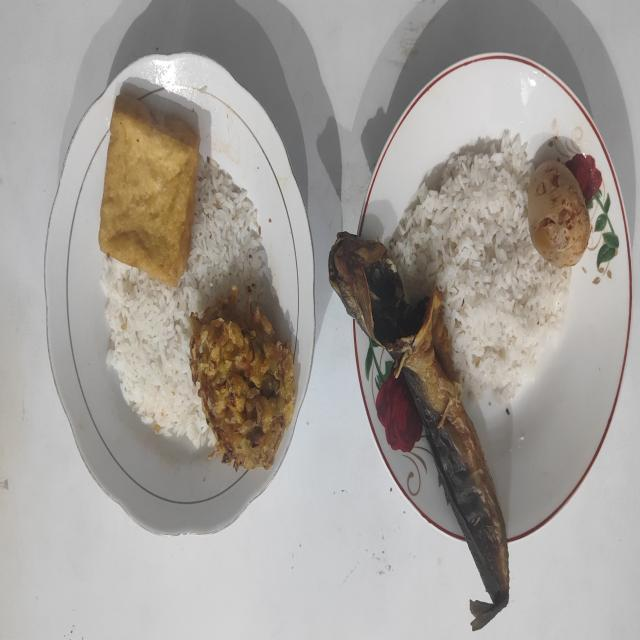nasi_putih: (101, 160, 272, 449), (389, 131, 570, 403)
tahu_goreng: (99, 96, 201, 286)
